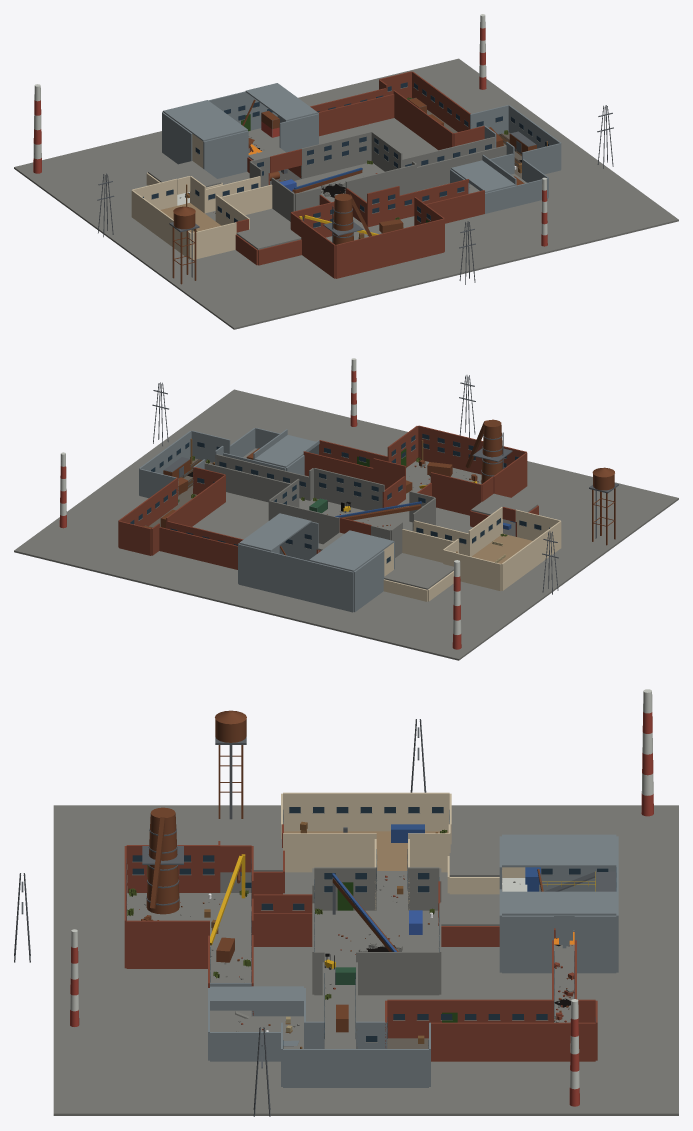
File: factory.glb
The picture shows the model from 3 angles, top to bottom: view 1: azimuth 30°, elevation 25°; view 2: azimuth 150°, elevation 25°; view 3: azimuth 270°, elevation 25°; orthographic projection. The views are drawn at different scales.
Visible parts, largest first — view 1: Ground1, RoomWall42, RoomWall24, Ceiling3, RoomWall12, RoomWall35, RoomWall7, RoomWall44, RoomWall26, RoomWall10, Ceiling4, RoomWall14 (+30 smaller); view 2: Ground1, RoomWall34, RoomWall42, RoomWall11, Ceiling3, RoomWall26, RoomWall44, RoomWall39, RoomWall13, Ceiling5, RoomWall7, Ceiling4 (+31 smaller); view 3: Ground1, RoomWall10, RoomWall44, RoomWall5, Floor8, RoomWall7, RoomWall43, Floor14, Ceiling3, RoomWall27, RoomWall48, RoomWall38 (+27 smaller).
Boxes of the visible parts, <box> form: Ground1: <box>14,58,678,329</box>; RoomWall42: <box>335,218,444,278</box>; RoomWall24: <box>301,131,371,178</box>; Ceiling3: <box>163,100,247,141</box>; RoomWall12: <box>318,94,394,136</box>; RoomWall35: <box>203,131,248,178</box>; RoomWall7: <box>393,90,453,150</box>; RoomWall44: <box>131,190,191,259</box>; RoomWall26: <box>345,164,416,201</box>; RoomWall10: <box>412,71,470,131</box>; Ceiling4: <box>245,83,317,121</box>; RoomWall14: <box>417,145,506,190</box>; Ground1: <box>14,389,678,660</box>; RoomWall34: <box>238,544,353,612</box>; RoomWall42: <box>418,425,526,474</box>; RoomWall11: <box>159,527,237,569</box>; Ceiling3: <box>309,530,393,571</box>; RoomWall26: <box>314,468,384,511</box>; RoomWall44: <box>501,521,561,590</box>; RoomWall39: <box>430,472,482,515</box>; RoomWall13: <box>204,463,299,503</box>; Ceiling5: <box>384,556,453,589</box>; RoomWall7: <box>166,475,225,528</box>; Ceiling4: <box>239,513,311,551</box>; Ground1: <box>53,805,678,1115</box>; RoomWall10: <box>431,1022,595,1061</box>; RoomWall44: <box>283,792,449,831</box>; RoomWall5: <box>283,1049,428,1087</box>; Floor8: <box>314,910,438,994</box>; RoomWall7: <box>387,999,553,1038</box>; RoomWall43: <box>126,920,209,968</box>; Floor14: <box>127,893,251,967</box>; Ceiling3: <box>502,834,616,867</box>; RoomWall27: <box>356,952,439,995</box>; RoomWall48: <box>283,833,376,872</box>; RoomWall38: <box>502,915,553,973</box>.
Bounding box in the file's own units: 145 × 30 × 128.
